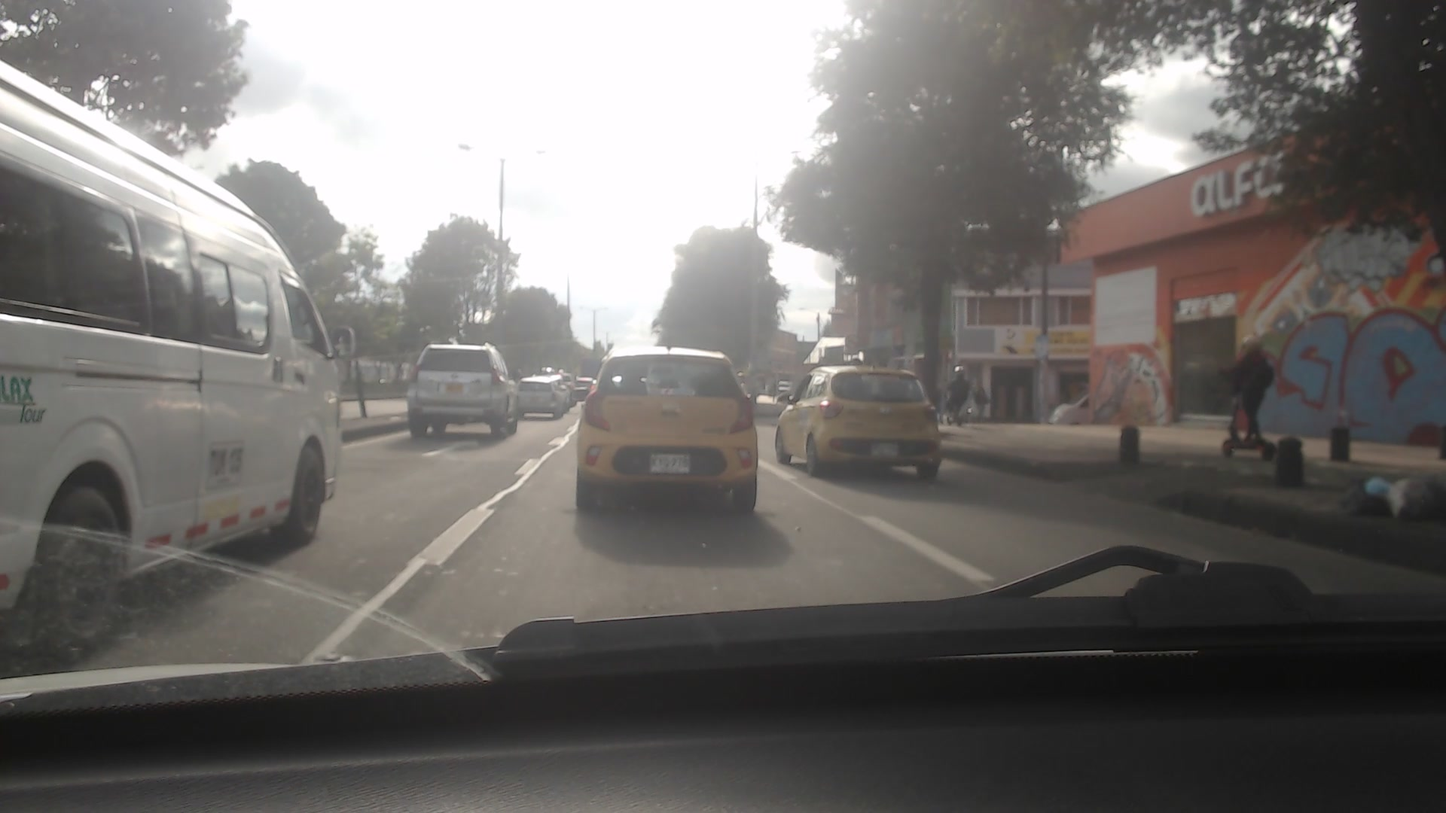bus: (0, 61, 334, 655)
car: (577, 348, 765, 518), (771, 357, 944, 480), (404, 345, 518, 448), (517, 371, 570, 418)
person: (1223, 322, 1277, 446), (943, 359, 974, 419)
